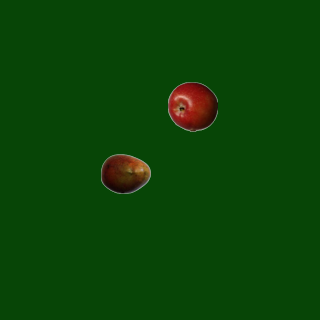Apple Braeburn: (167, 81, 217, 131)
Mango Red: (100, 148, 150, 198)
